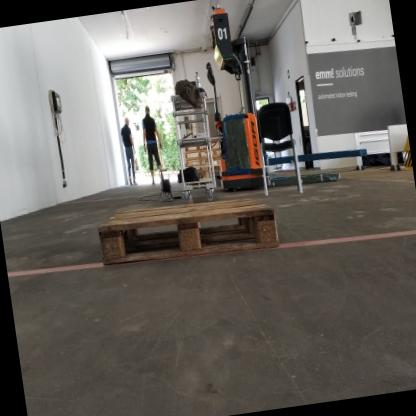BoxFace: (90, 192, 282, 265)
